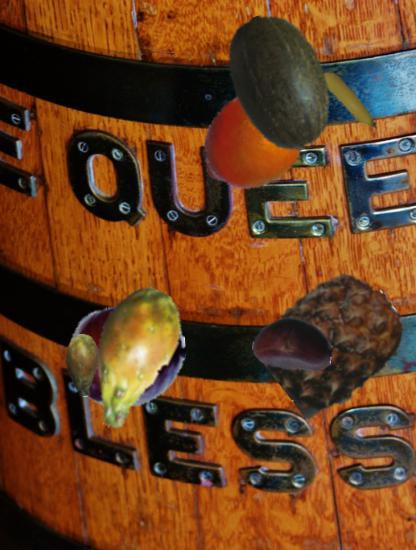Banana: (307, 58, 391, 142)
Cactus: (56, 285, 203, 432), (51, 334, 114, 397)
Chestnut: (253, 304, 333, 384)
Melon: (209, 12, 351, 154)
Pineapple: (264, 272, 403, 411)
Plum: (69, 298, 186, 415)
Tangelo: (197, 87, 305, 195)
